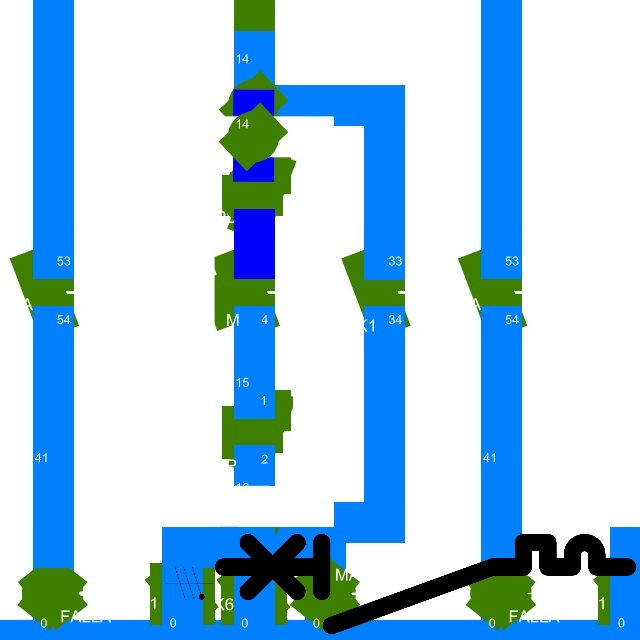interruptor_termomagnetico: (213, 532, 638, 636)
